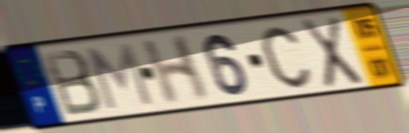6: (201, 31, 250, 98)
B: (39, 47, 106, 119)
C: (258, 23, 313, 90)
H: (139, 32, 213, 109)
M: (82, 40, 156, 112)
X: (298, 13, 366, 91)
